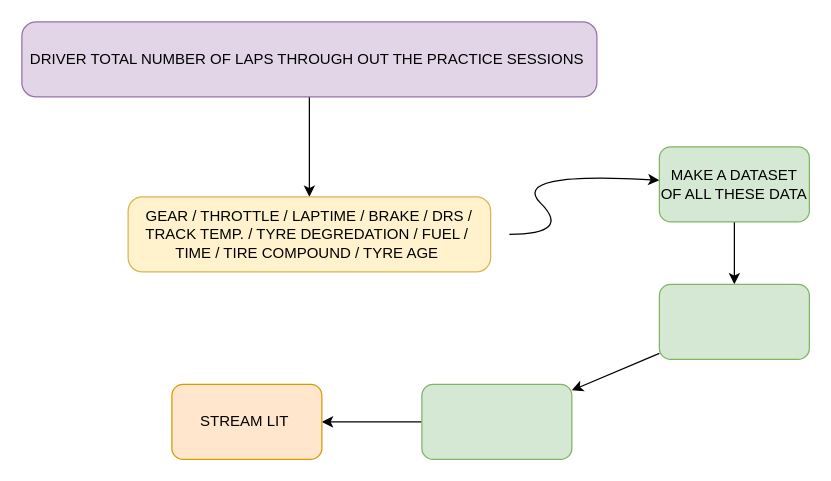
The diagram is 831 pixels wide and 481 high, and some of its shapes have lost their labels. The shapes that lost their labels are listed below. From the top down, each one's box as (x1, y1, x2, y2) in pixels, then its label:
(658, 283, 809, 359): DATA PROCESSING
(421, 383, 572, 459): MODEL TRAINING
